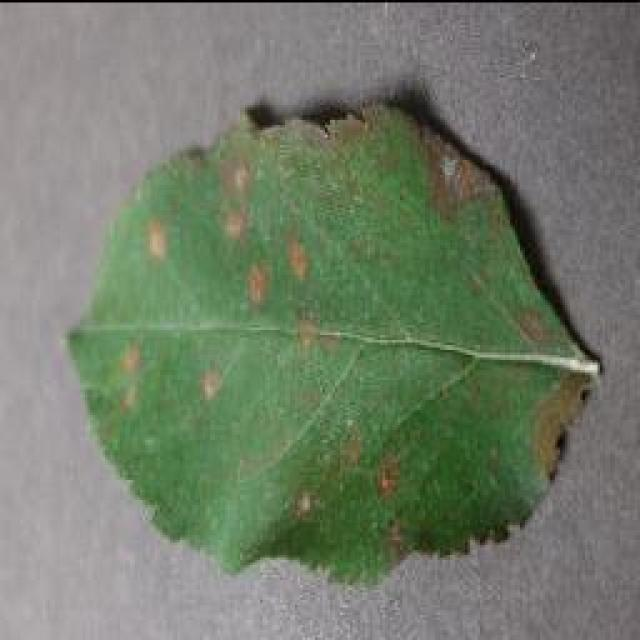apple healthy: (62, 92, 602, 588)
